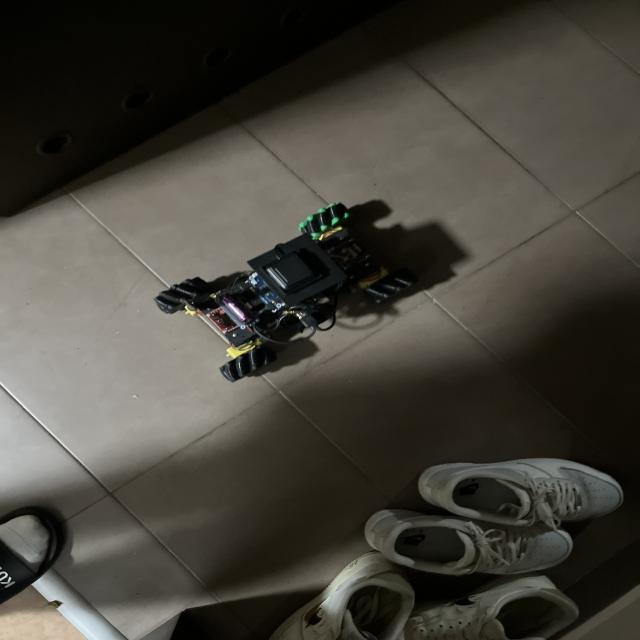robot: (154, 203, 416, 382)
